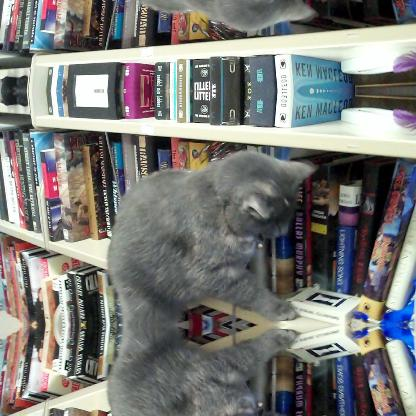Cat: (104, 154, 316, 324), (104, 325, 317, 415)
